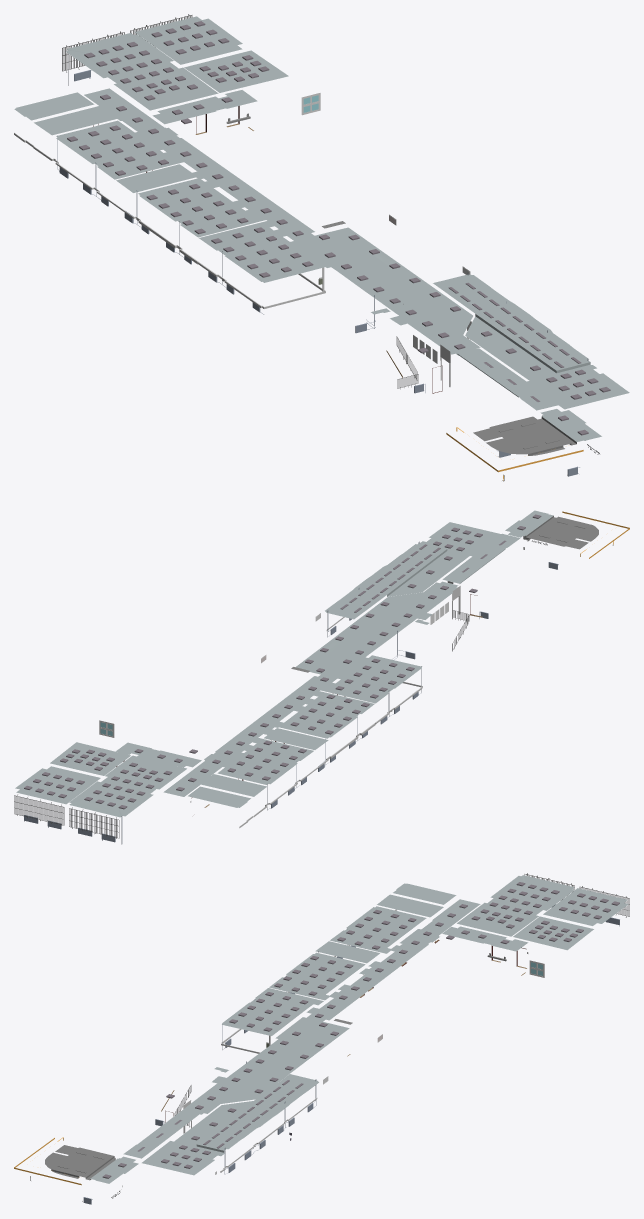
The model's file is ra0_Non_Collision.fbx.
3 views of the same model, one above another, from view 1: azimuth 30°, elevation 25°; view 2: azimuth 150°, elevation 25°; view 3: azimuth 330°, elevation 25° (orthographic). The views are drawn at different scales.
Parts seen in each view (by area): view 1: ra0_strop.003, 0_ram_okna005.036, ra0_strop.004, 0_ram_okna005.040, ra0_strop.006, ra0_strop.007, 0_ram_okna005.055, 0_ram_okna005.012, ra0_strop.008, ra0_strecha, ra0_lampy, ra0_strop.001 (+11 smaller); view 2: ra0_strop.003, 0_ram_okna005.036, ra0_strop.004, 0_ram_okna005.040, ra0_strop.006, ra0_strop.007, 0_ram_okna005.055, 0_ram_okna005.012, ra0_strop.008, ra0_strecha, ra0_lampy, ra0_strop.001 (+12 smaller); view 3: ra0_strop.003, ra0_strop.004, 0_ram_okna005.036, 0_ram_okna005.040, ra0_strop.006, ra0_strop.007, 0_ram_okna005.055, 0_ram_okna005.012, ra0_strop.008, ra0_strecha, ra0_lampy, ra0_strop.001 (+10 smaller).
Boxes of the visible parts, box(x1,y1,x2,y2) form: ra0_strop.003: box(290, 227, 480, 355); 0_ram_okna005.036: box(65, 33, 218, 110); ra0_strop.004: box(84, 88, 314, 239); 0_ram_okna005.040: box(134, 16, 288, 92); ra0_strop.006: box(433, 274, 590, 373); ra0_strop.007: box(465, 316, 629, 409); 0_ram_okna005.055: box(199, 220, 325, 282); 0_ram_okna005.012: box(56, 120, 184, 179); ra0_strop.008: box(138, 178, 266, 237); ra0_strecha: box(473, 416, 576, 455); ra0_lampy: box(100, 94, 588, 435); ra0_strop.001: box(457, 348, 559, 410); ra0_strop.003: box(295, 581, 458, 679); 0_ram_okna005.036: box(69, 755, 186, 817); ra0_strop.004: box(163, 675, 336, 796); 0_ram_okna005.040: box(15, 742, 130, 804); ra0_strop.006: box(325, 542, 447, 619); ra0_strop.007: box(387, 522, 501, 596); 0_ram_okna005.055: box(320, 655, 422, 703); 0_ram_okna005.012: box(217, 737, 313, 784); ra0_strop.008: box(278, 691, 374, 738); ra0_strecha: box(523, 516, 598, 549); ra0_lampy: box(134, 514, 541, 791); ra0_strop.001: box(442, 533, 520, 583); ra0_strop.003: box(184, 1017, 349, 1114); ra0_strop.004: box(306, 899, 480, 1021); 0_ram_okna005.036: box(457, 875, 574, 936); 0_ram_okna005.040: box(513, 888, 628, 950); ra0_strop.006: box(196, 1074, 318, 1152); ra0_strop.007: box(142, 1101, 253, 1175); 0_ram_okna005.055: box(222, 988, 323, 1035); 0_ram_okna005.012: box(330, 906, 426, 953); ra0_strop.008: box(269, 952, 365, 1000); ra0_strecha: box(45, 1145, 115, 1180); ra0_lampy: box(102, 904, 509, 1178); ra0_strop.001: box(123, 1108, 201, 1158).
Bounding box in the file's own units: 2148 × 496 × 8187.
